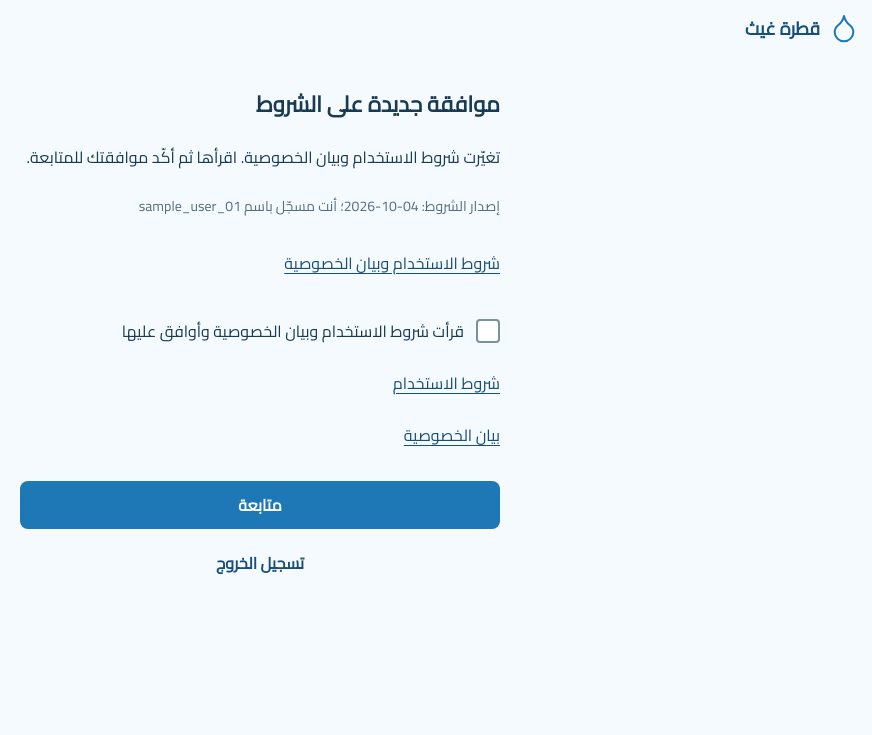
Test: S-06 E05 errors (G-18, G-03, P-04 to P-07) › 403: an alert with a reload button
The width and height of the screenshot is (872, 735).
Click the checkbox labelled "قرأت شروط الاستخدام وبيان الخصوصية وأوافق عليها" at (311, 331), box 122,316 -> 500,346
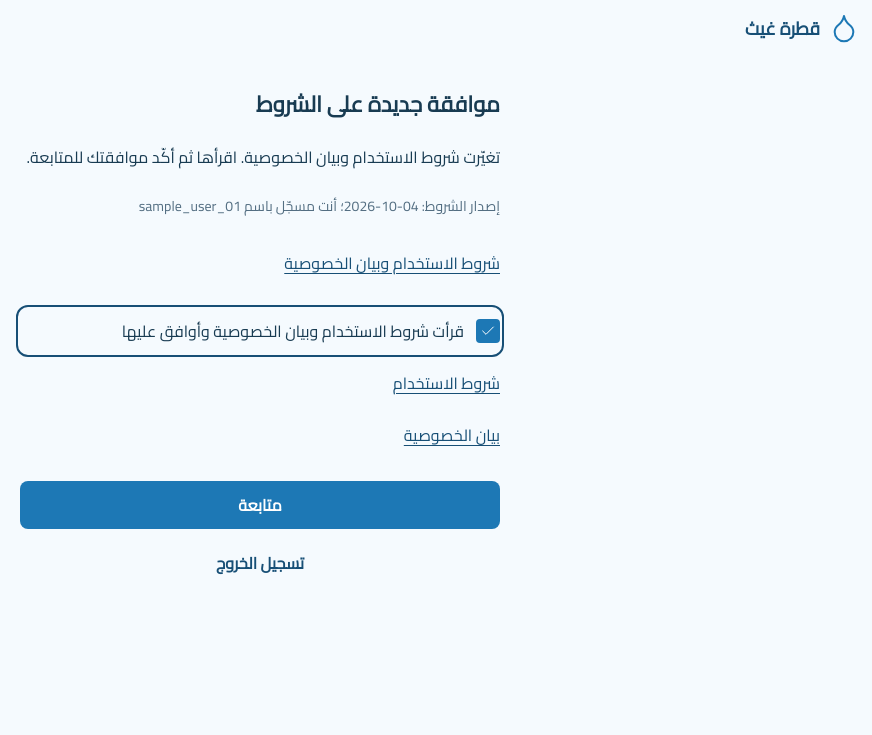
Click the button "متابعة" at (260, 505), box 20,481 -> 500,529
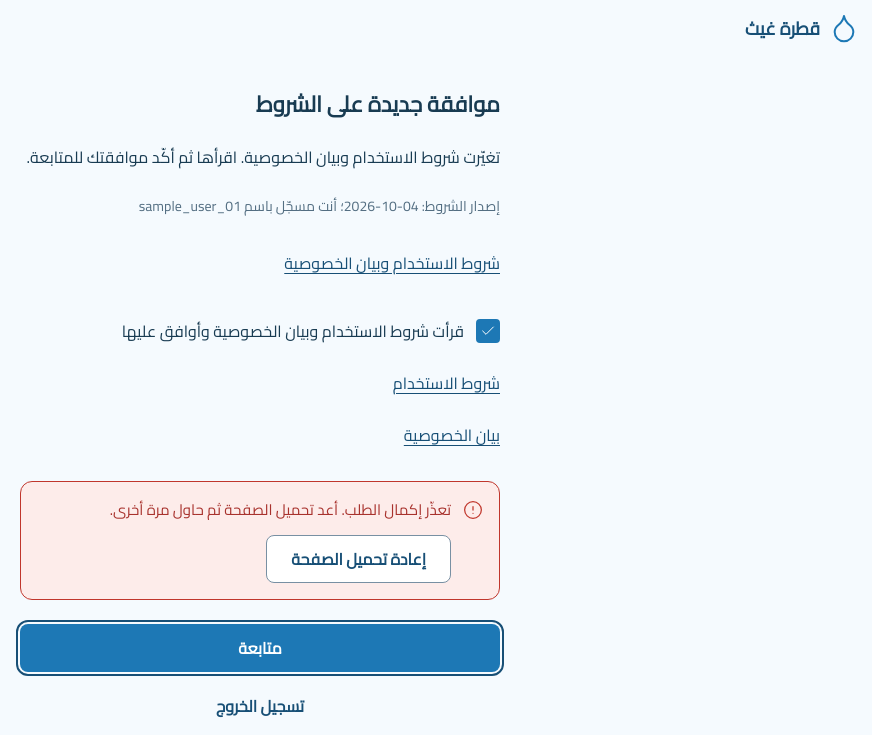
Check: the message shows "تعذّر إكمال الطلب. أعد تحميل الصفحة ثم حاول مرة أخرى.", box 110,495 -> 451,524
Check: the button "إعادة تحميل الصفحة" is shown, box 266,535 -> 451,583
